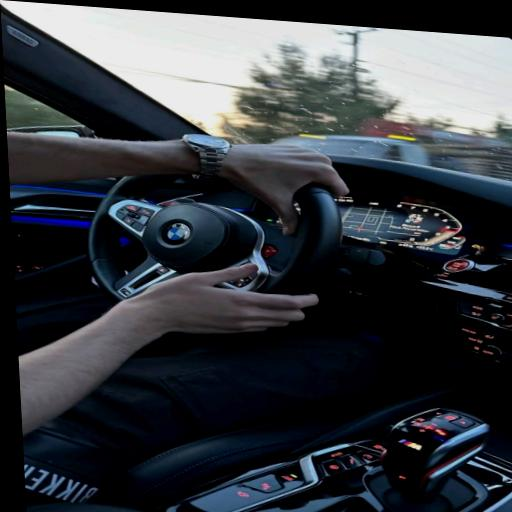Hands-on-the-Wheel: (111, 237, 337, 358), (169, 121, 377, 244)
